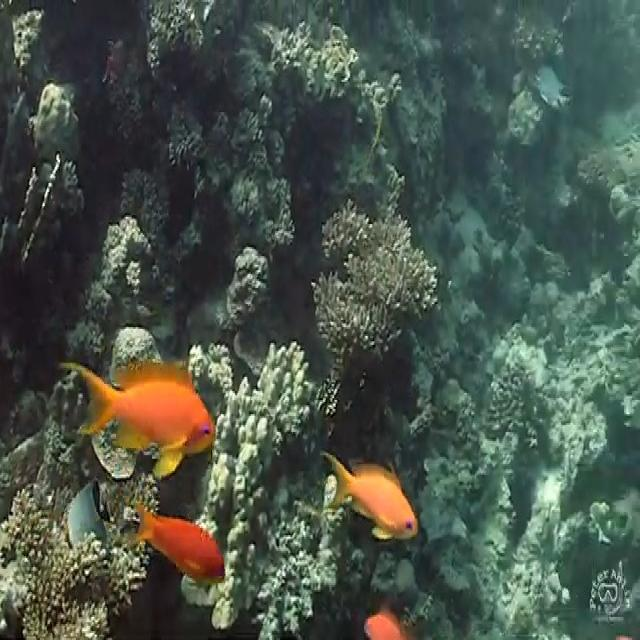Sea Goldie: (63, 359, 215, 476), (124, 495, 226, 586), (320, 449, 417, 542), (362, 606, 409, 640)
